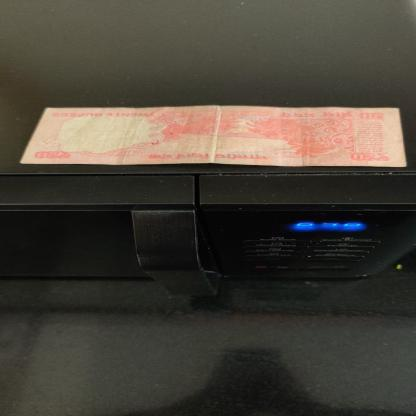Old20Back: (19, 104, 408, 168)
